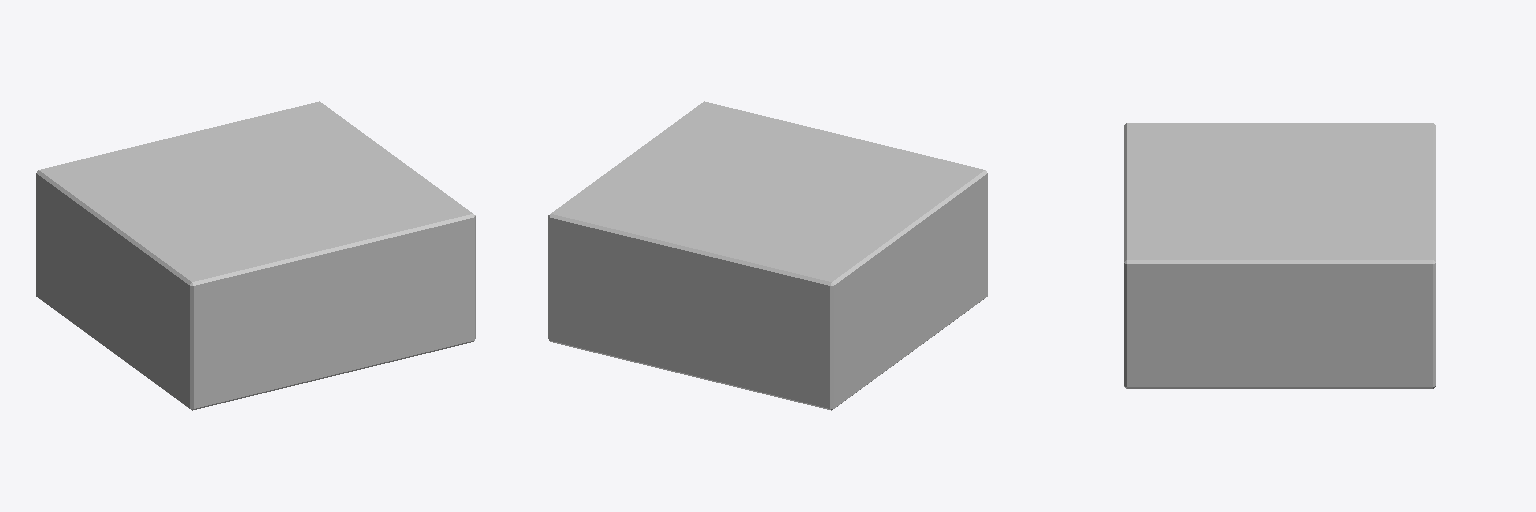
File: Input_prediction_mesh.obj
The picture shows the model from 3 angles: view 1: azimuth 30°, elevation 25°; view 2: azimuth 150°, elevation 25°; view 3: azimuth 270°, elevation 25°; orthographic projection.
Parts seen in each view (by area): view 1: mat1, mat0, mat4, mat2; view 2: mat1, mat0, mat2; view 3: mat0, mat1, mat2.
Boxes of the visible parts, x1,y1,x2,y2 form: mat1: [45, 103, 473, 378]; mat0: [36, 101, 475, 410]; mat4: [245, 246, 458, 330]; mat2: [103, 135, 273, 174]; mat1: [551, 101, 976, 349]; mat0: [548, 102, 987, 410]; mat2: [636, 212, 805, 349]; mat0: [1124, 123, 1435, 388]; mat1: [1124, 123, 1435, 260]; mat2: [1310, 146, 1420, 295].
Size of the model in its own units: 4.48 by 1.92 by 4.24.